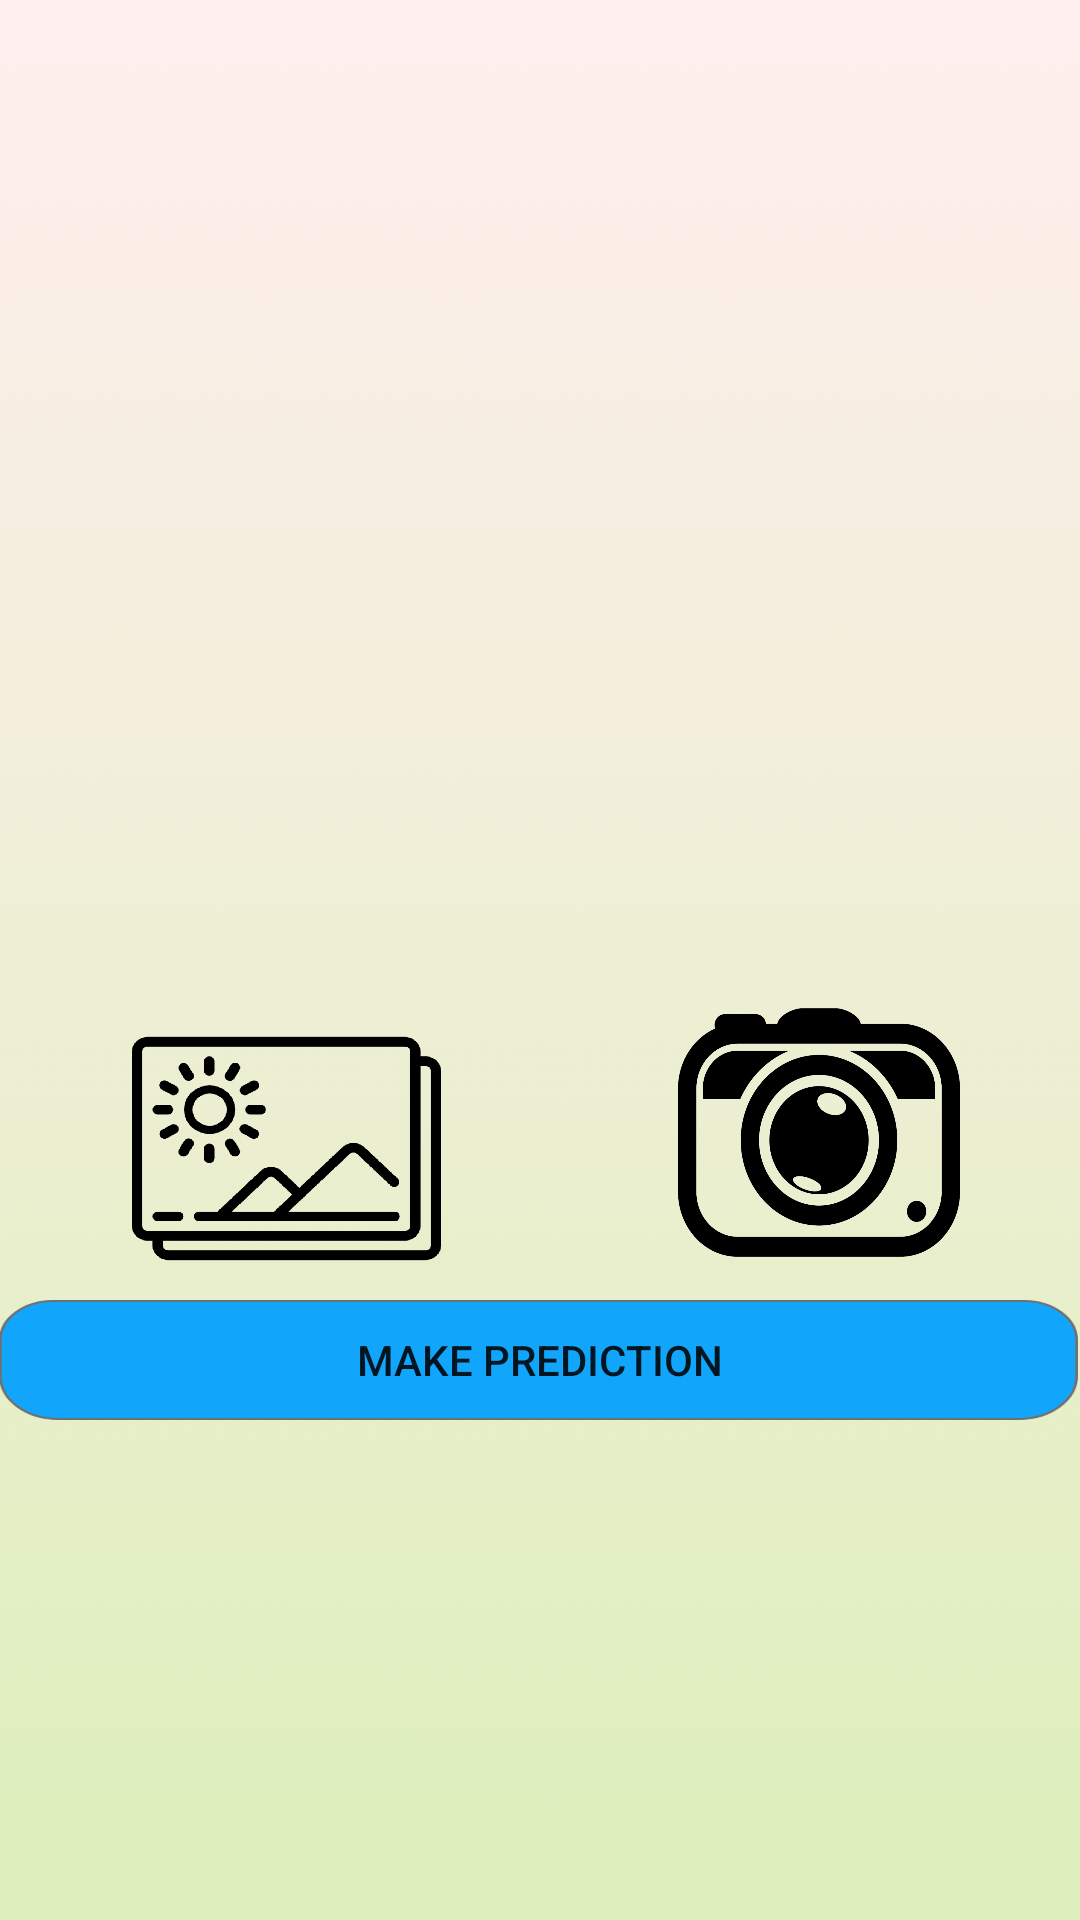

Screen size 1080px×1920px. Icon name, then its box in pixels as bbox=[x1, y1, x2, y2]:
camera: bbox=[678, 1008, 960, 1257]
gallery: bbox=[132, 1036, 441, 1261]
